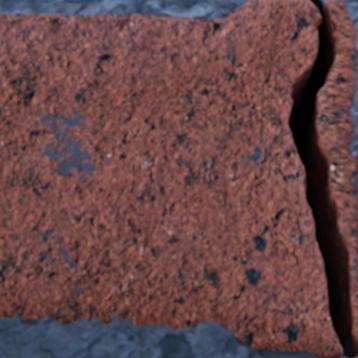broken_brick: (0, 0, 341, 356), (317, 0, 357, 340)
crack: (288, 1, 357, 356), (226, 307, 229, 327)
